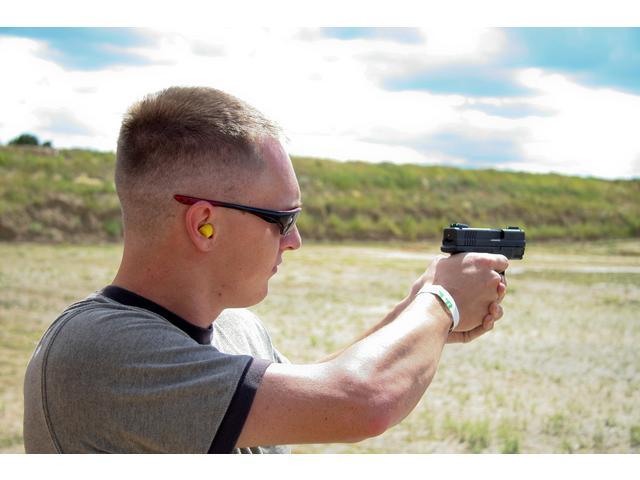pistol: (440, 220, 529, 330)
